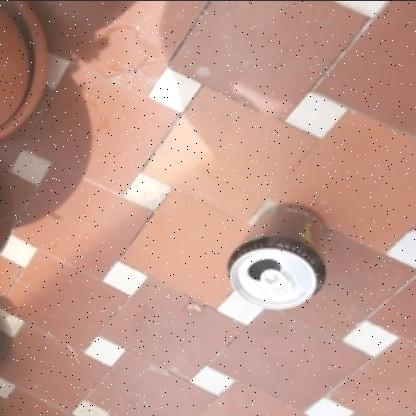Can: (228, 204, 328, 310)
